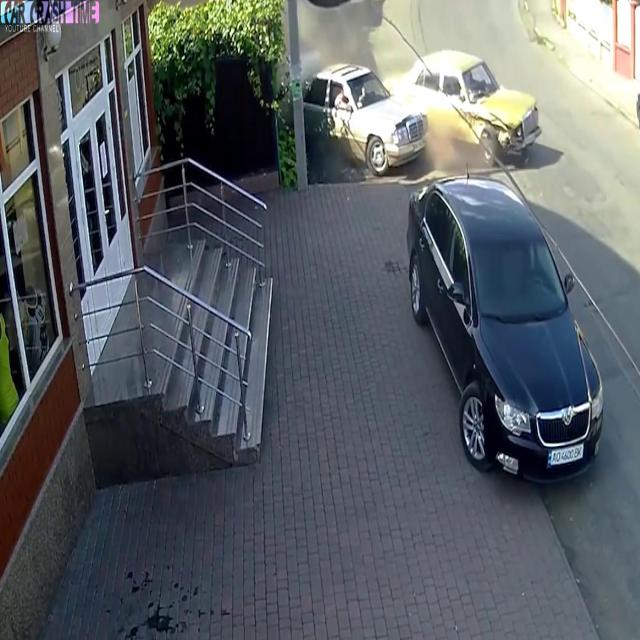accident: (302, 44, 546, 180)
